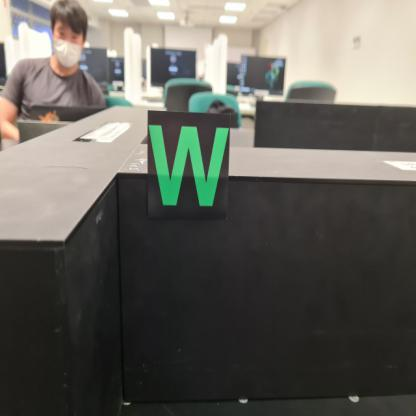w: (147, 110, 232, 219)
